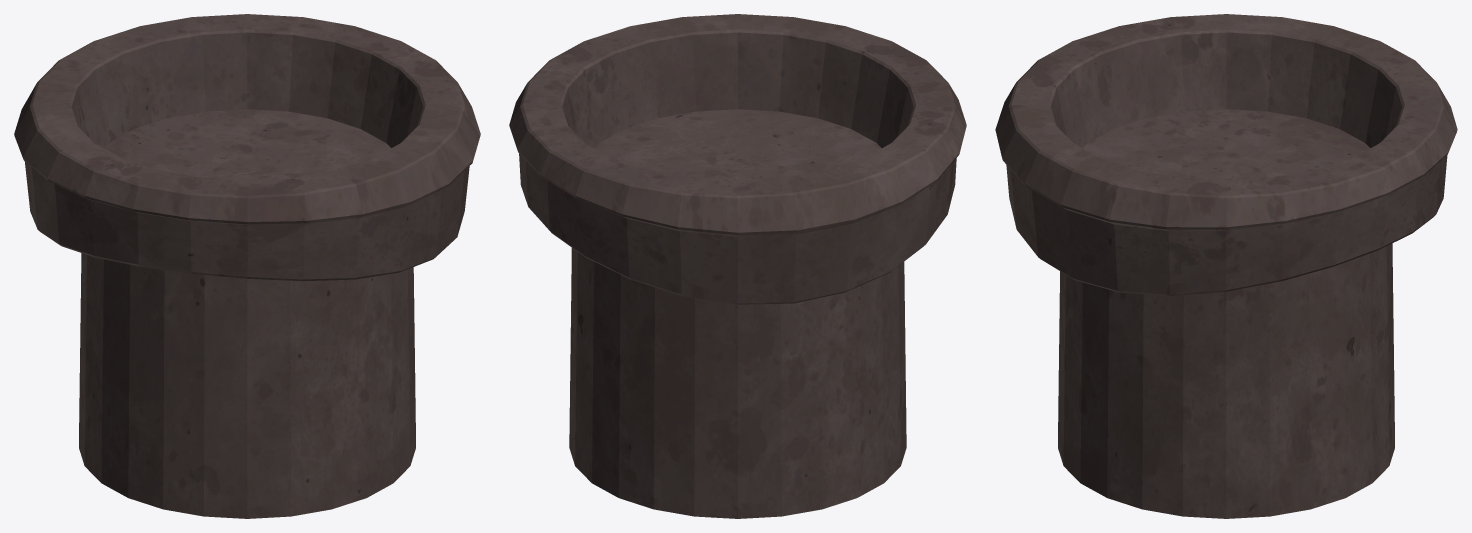
The model's file is Exhaust01.fbx.
3 views of the same model, side by side, from view 1: azimuth 30°, elevation 25°; view 2: azimuth 150°, elevation 25°; view 3: azimuth 270°, elevation 25° (orthographic).
Visible parts, largest first — view 1: SM_ENV_STRUCT_ScrapYard_Exhaust_01.mo; view 2: SM_ENV_STRUCT_ScrapYard_Exhaust_01.mo; view 3: SM_ENV_STRUCT_ScrapYard_Exhaust_01.mo.
Boxes of the visible parts, x1=… form: SM_ENV_STRUCT_ScrapYard_Exhaust_01.mo: x1=14, y1=14, x2=480, y2=518; SM_ENV_STRUCT_ScrapYard_Exhaust_01.mo: x1=509, y1=14, x2=966, y2=518; SM_ENV_STRUCT_ScrapYard_Exhaust_01.mo: x1=995, y1=14, x2=1457, y2=518.
Bounding box in the file's own units: 398 × 326 × 398.
Materials: 3 (3 with a texture image).
